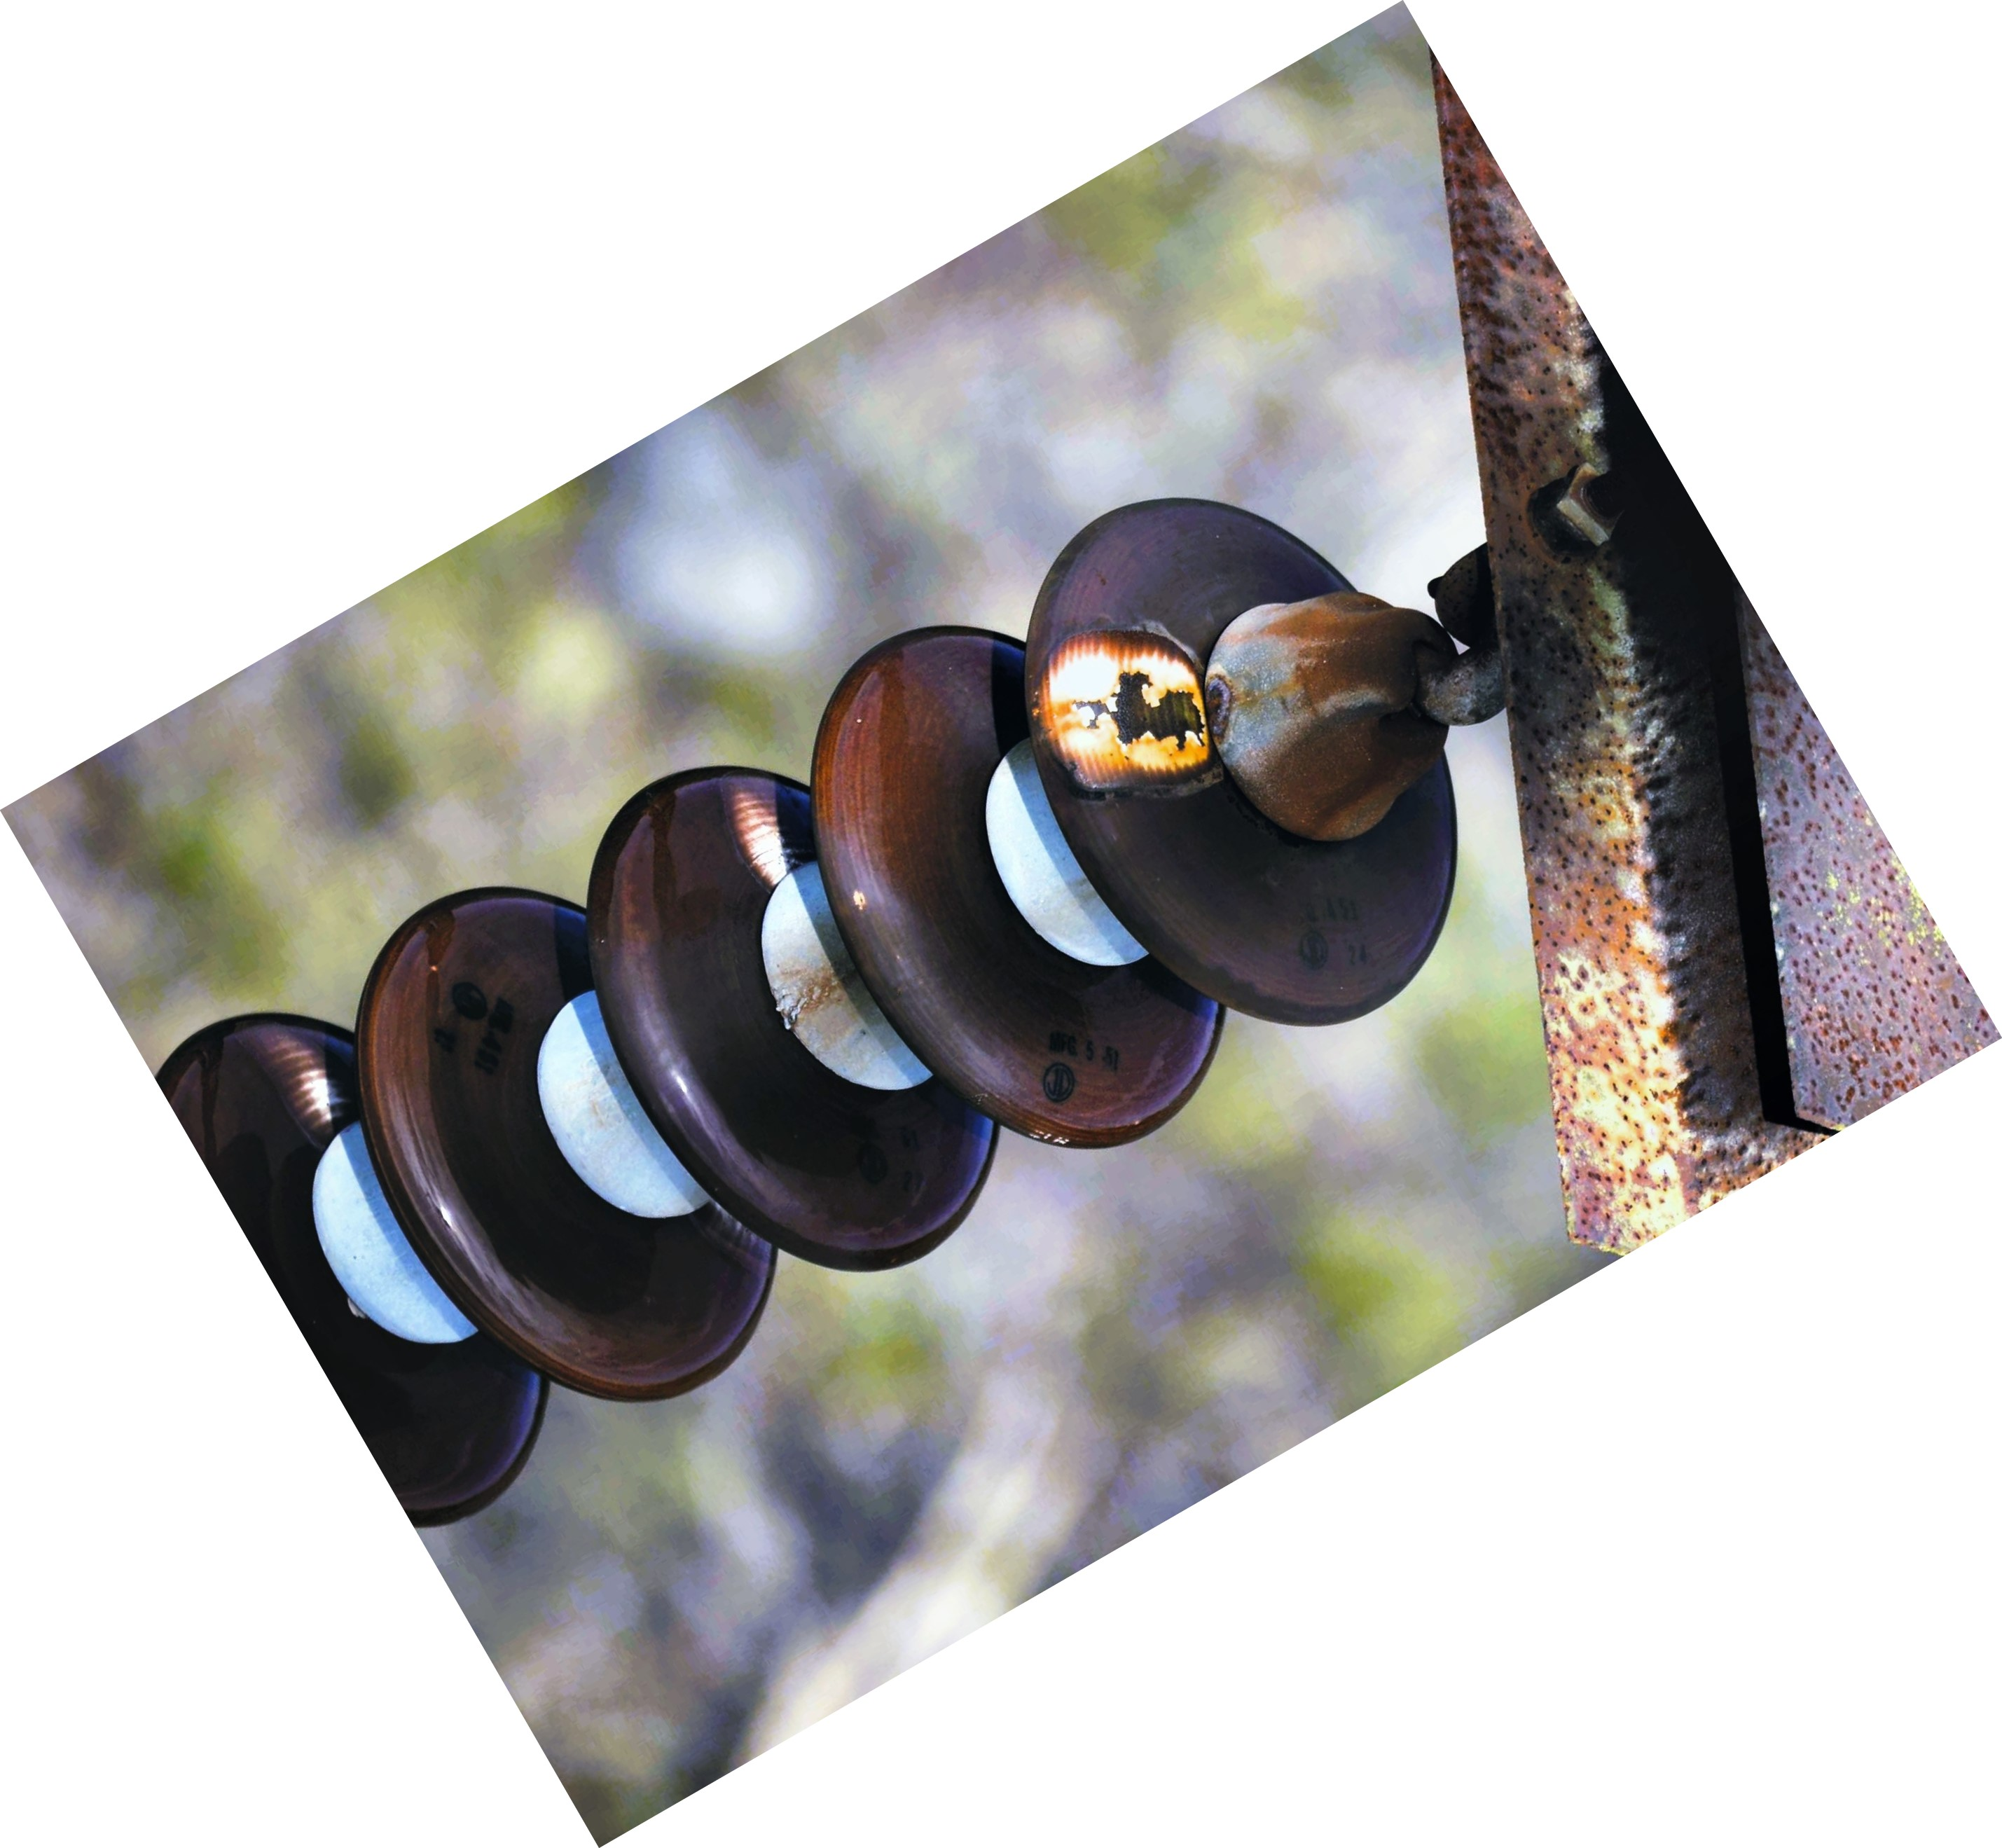Insulator flashover: (1001, 472, 1486, 1030)
